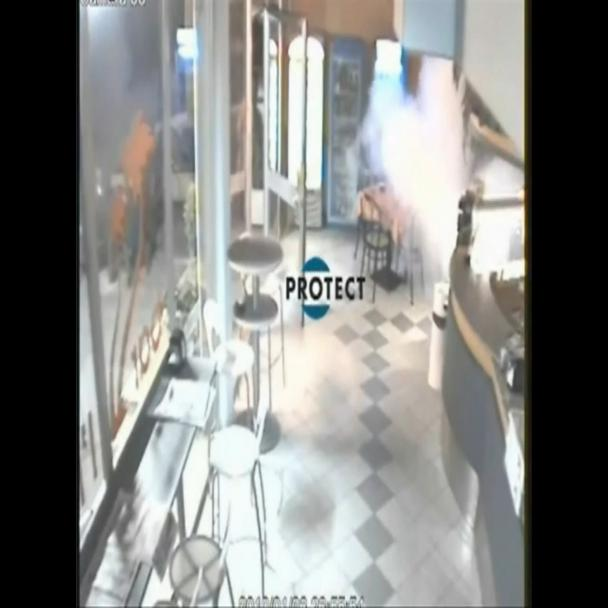smoke: (362, 21, 511, 361)
